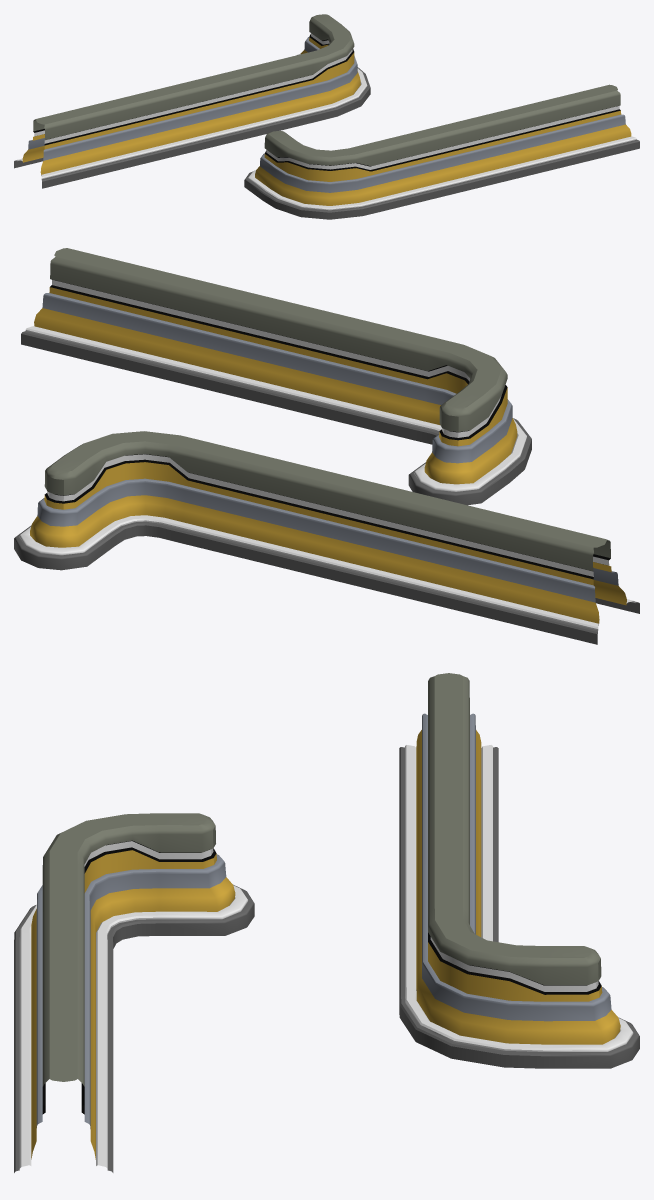
Rendered from Level5_Small_walls.fbx.
3 views of the same model, one above another, from view 1: azimuth 30°, elevation 25°; view 2: azimuth 150°, elevation 25°; view 3: azimuth 270°, elevation 25° (orthographic). The views are drawn at different scales.
Visible parts, largest first — view 1: Small_wall_L2, Small_wall_L15; view 2: Small_wall_L15, Small_wall_L2; view 3: Small_wall_L15, Small_wall_L2.
Boxes of the visible parts, left/top/right/bottom form: Small_wall_L2: left=244, top=84, right=639, bottom=219; Small_wall_L15: left=14, top=14, right=370, bottom=188; Small_wall_L15: left=14, top=431, right=639, bottom=644; Small_wall_L2: left=21, top=248, right=531, bottom=505; Small_wall_L15: left=399, top=673, right=639, bottom=1068; Small_wall_L2: left=14, top=813, right=254, bottom=1172.
Bounding box in the file's own units: 349 × 37.08 × 217.
